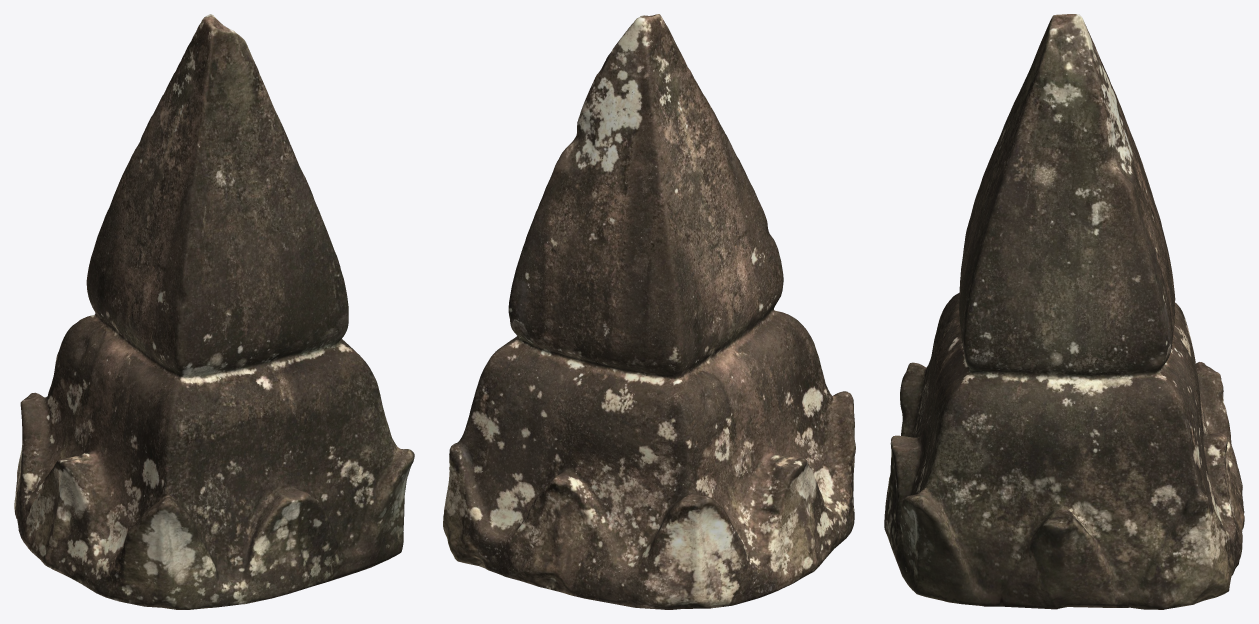
Rendered from 14_MysonSanctuaryB_chopthap_final.glb.
The picture shows the model from 3 angles, left to right: view 1: azimuth 30°, elevation 25°; view 2: azimuth 150°, elevation 25°; view 3: azimuth 270°, elevation 25°; orthographic projection. The views are drawn at different scales.
Size of the model in its own units: 0.5249 by 0.8044 by 0.5007.
Materials: 1 (1 with a texture image).
